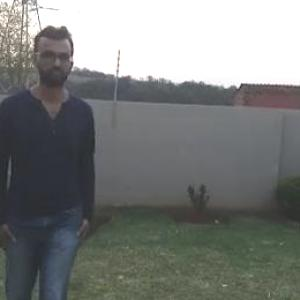follow: (0, 32, 94, 299)
